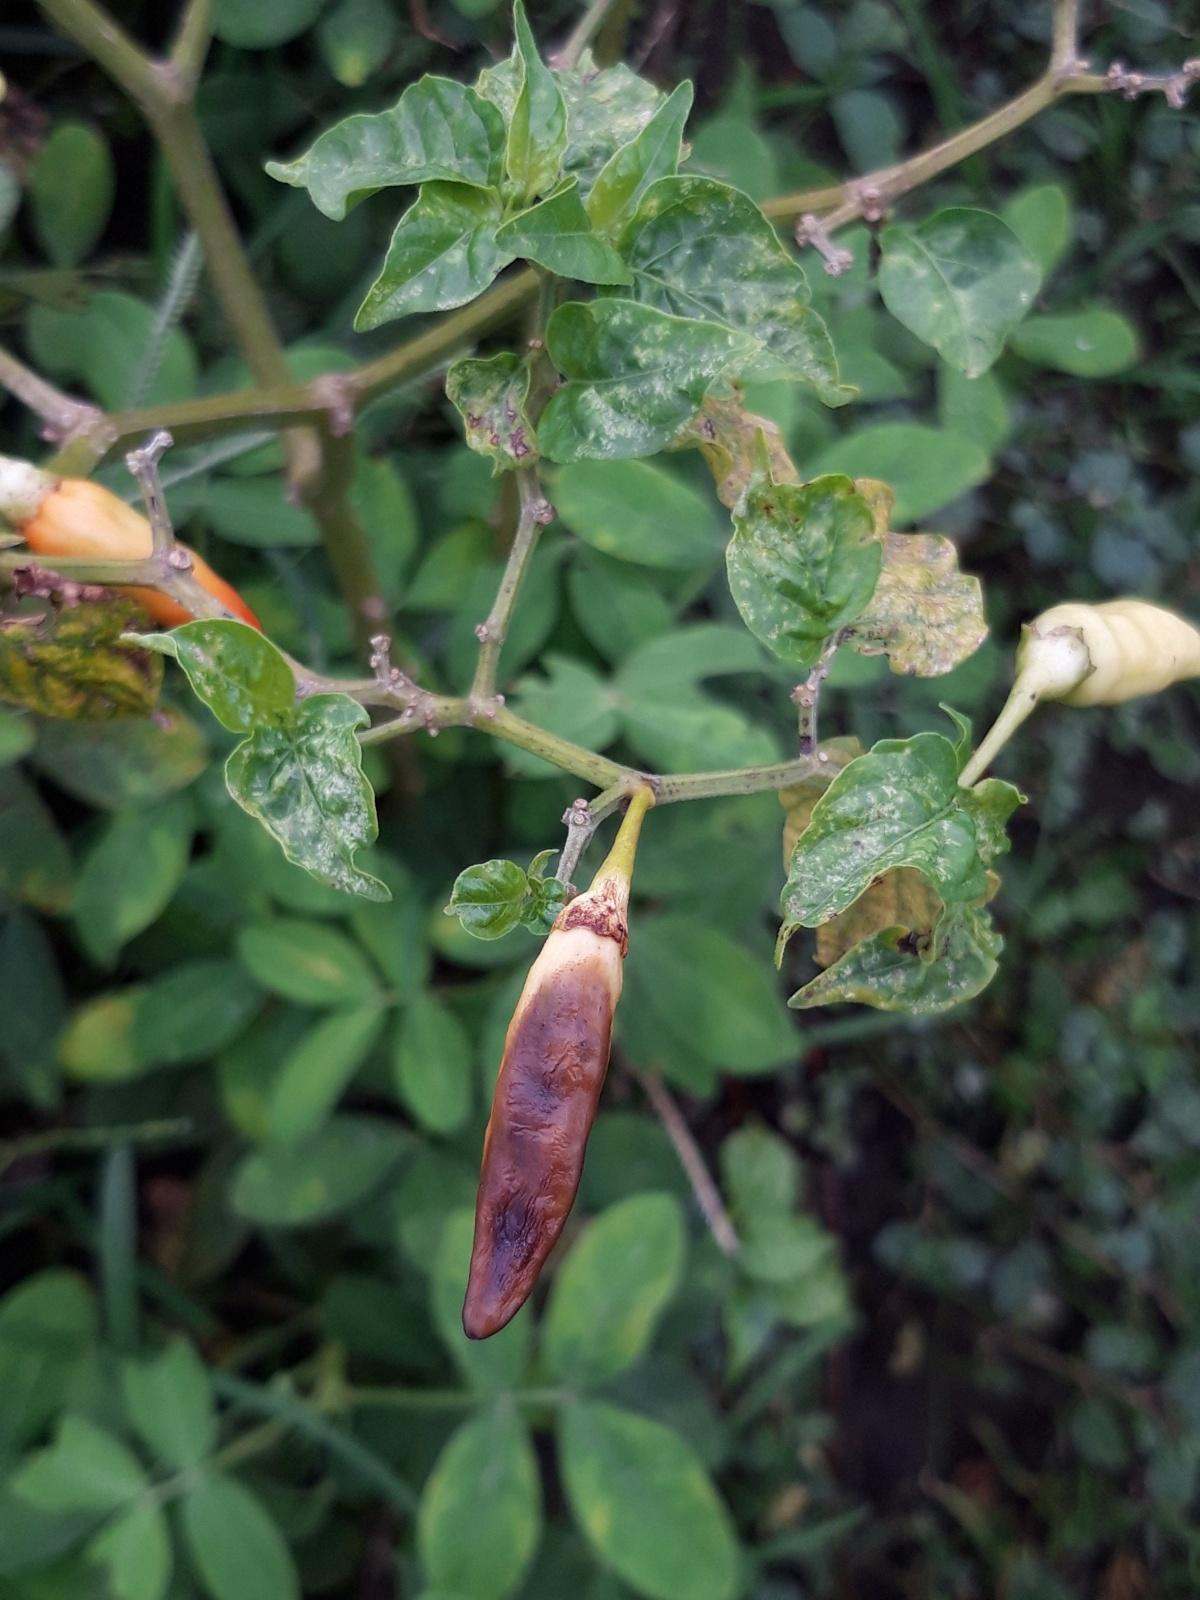cabai_normal: (21, 470, 267, 640), (1016, 593, 1200, 712)
lalat_buah: (458, 898, 632, 1342)
